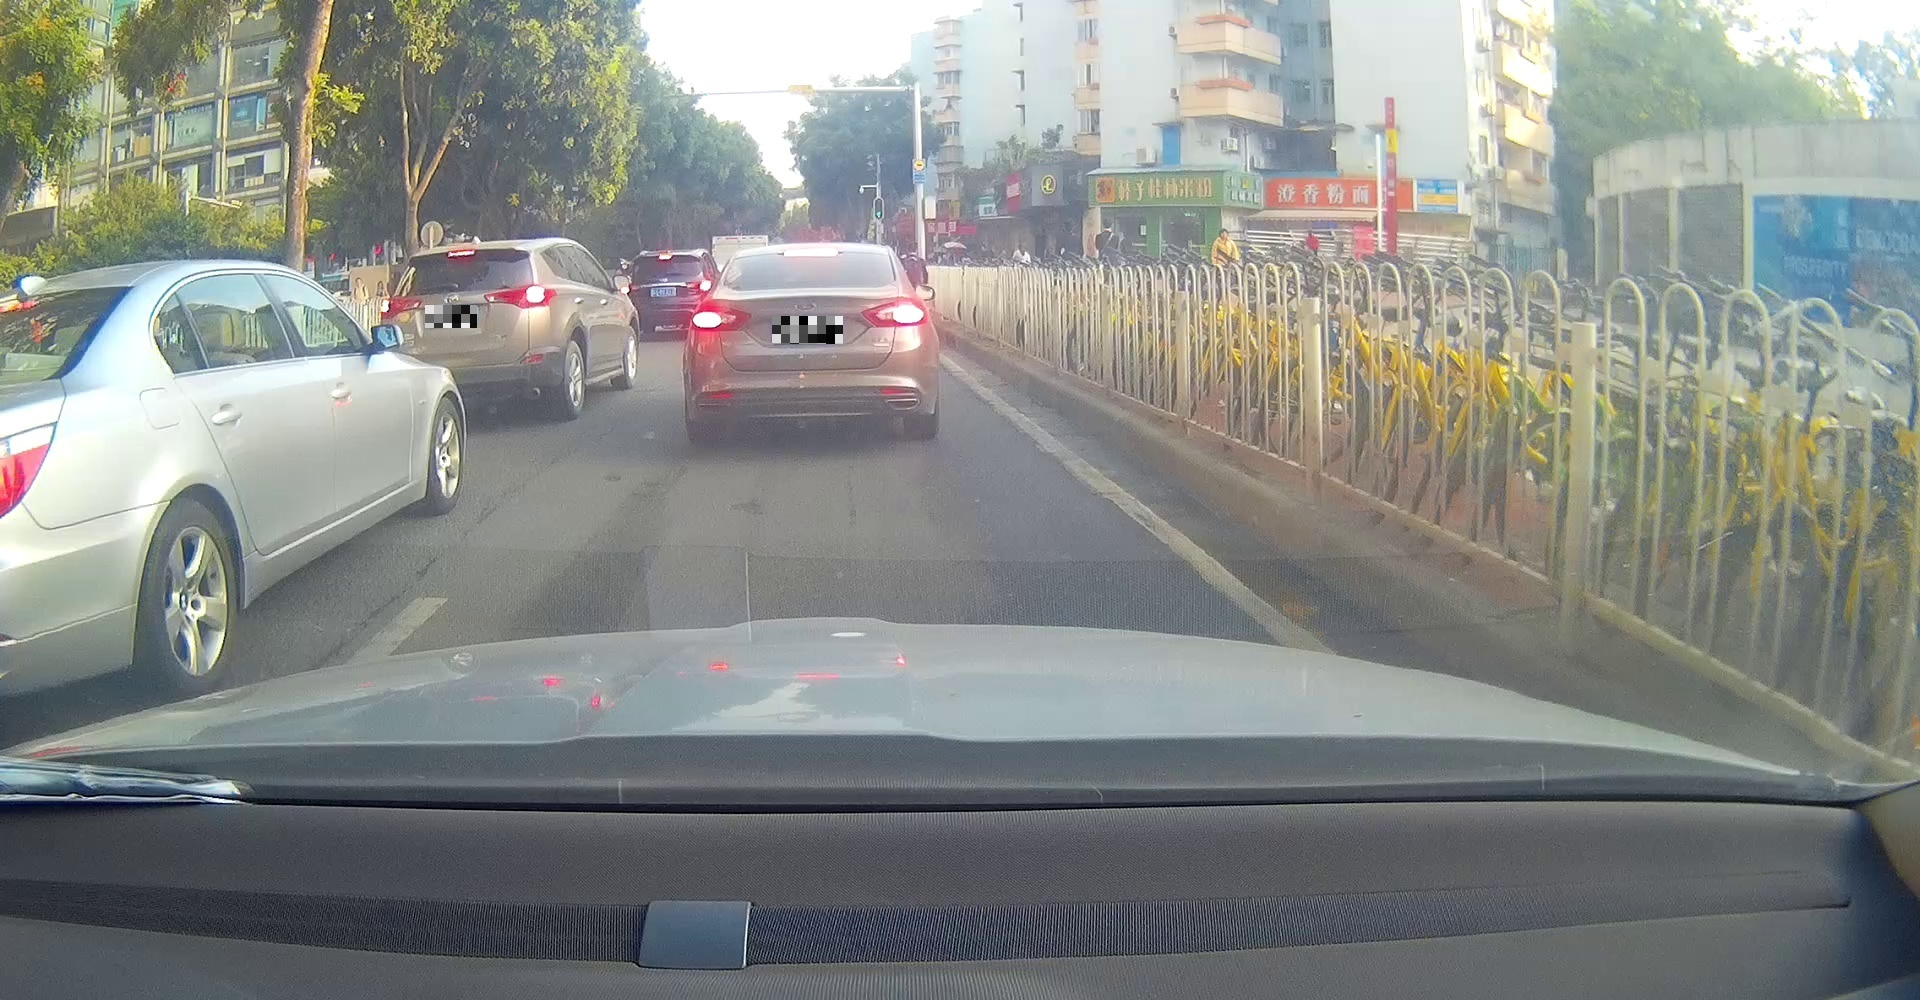L_light: (693, 301, 750, 331), (380, 294, 423, 320)
R_light: (860, 297, 928, 327), (484, 283, 557, 308)
T_light: (781, 247, 839, 258), (447, 247, 475, 258)
day-brake: (690, 242, 930, 437), (378, 237, 557, 420)
plate_1: (425, 305, 477, 327)
plate_2: (772, 316, 843, 344)
